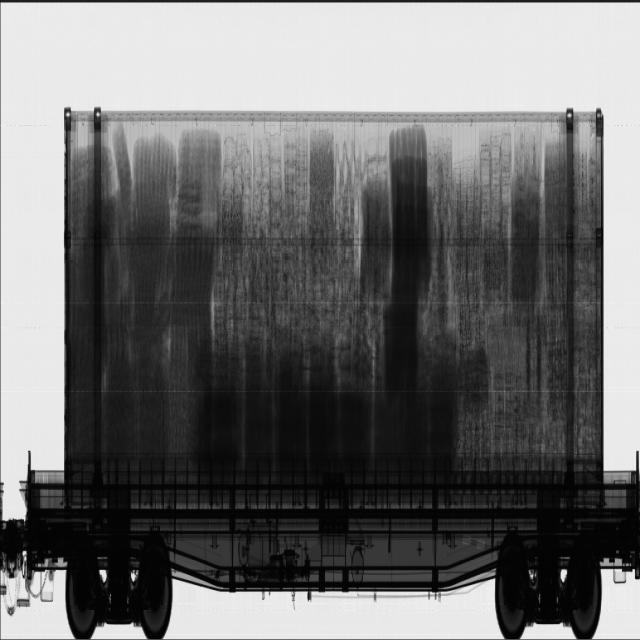table ware: (165, 134, 287, 360)
textile: (53, 124, 343, 465)
